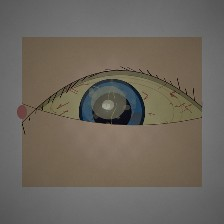corneal_ulcer: (80, 80, 138, 126)
